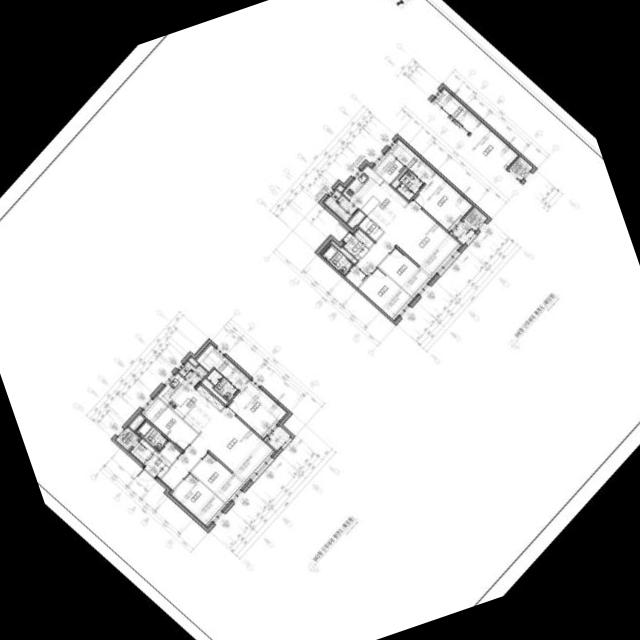background: (0, 0, 640, 640)
space_balconi: (324, 189, 358, 221), (179, 361, 208, 386), (266, 425, 290, 450), (452, 221, 474, 244)
space_bedroom: (227, 368, 286, 437), (171, 472, 226, 525), (359, 267, 412, 319), (191, 452, 244, 503), (379, 247, 431, 297)
space_dressroom: (196, 344, 236, 377), (389, 139, 422, 170)
space_front: (343, 228, 373, 259), (144, 450, 171, 478)
space_kitchen: (342, 165, 408, 230), (158, 373, 224, 433)
space_living_room: (161, 407, 274, 489), (356, 200, 461, 276)
space_other: (413, 161, 472, 231), (142, 396, 198, 450), (372, 151, 405, 183), (202, 378, 228, 404), (130, 438, 155, 462), (358, 216, 383, 240), (331, 240, 357, 263), (345, 264, 367, 287), (160, 441, 182, 462), (391, 167, 407, 187), (347, 210, 365, 227), (129, 414, 144, 430), (189, 357, 198, 365), (337, 184, 344, 191)
space_outdoor_room: (463, 206, 487, 230), (116, 426, 139, 449)
space_toilet: (207, 368, 238, 400), (136, 420, 168, 450), (322, 244, 353, 274), (397, 169, 424, 199)
